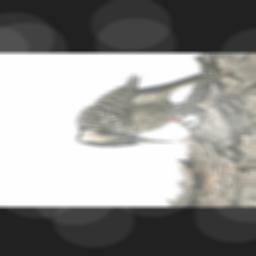Woodpecker: (75, 72, 212, 147)
